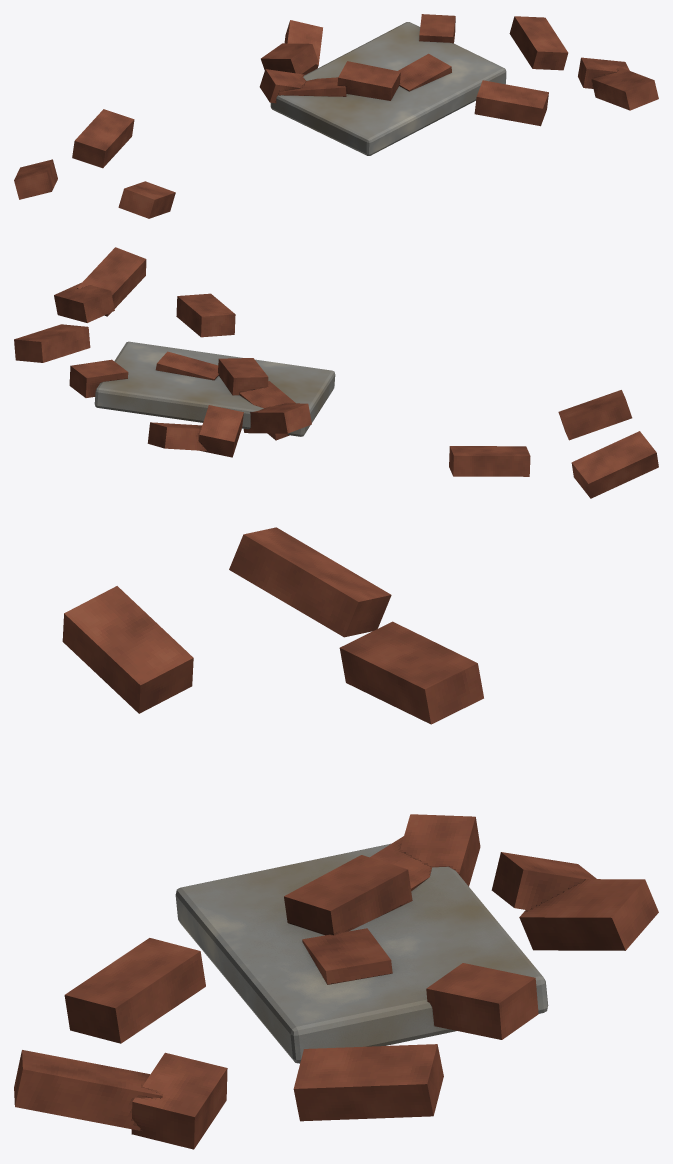
File: vault_tell_city.glb
3 renders of one model, top to bottom at view 1: azimuth 30°, elevation 25°; view 2: azimuth 150°, elevation 25°; view 3: azimuth 270°, elevation 25°, orthographic. The views are drawn at different scales.
Visible parts, largest first — view 1: vault_tell_city; view 2: vault_tell_city; view 3: vault_tell_city.
Boxes of the visible parts, left/top/right/bottom form: vault_tell_city: left=14, top=14, right=658, bottom=218; vault_tell_city: left=14, top=247, right=658, bottom=498; vault_tell_city: left=14, top=527, right=658, bottom=1149.
Bounding box in the file's own units: 2.01 × 0.1546 × 0.9612.
Materials: 2 (2 with a texture image).
